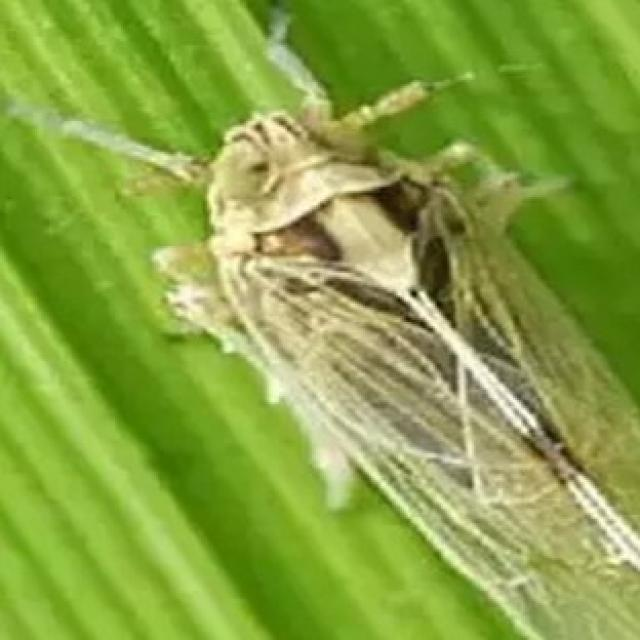brown plant hopper: (59, 45, 638, 638)
